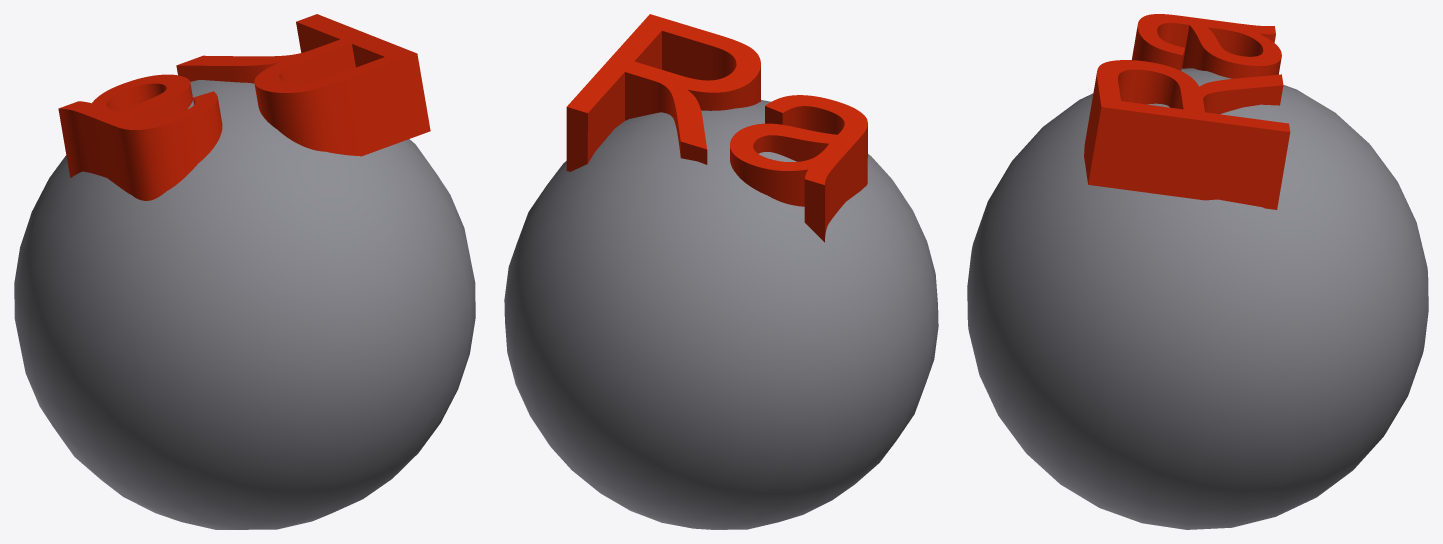
The picture shows the model from 3 angles, left to right: view 1: azimuth 30°, elevation 25°; view 2: azimuth 150°, elevation 25°; view 3: azimuth 270°, elevation 25°; orthographic projection. The views are drawn at different scales.
Parts seen in each view (by area): view 1: Ra; view 2: Ra; view 3: Ra.
Part boxes in pixels (bbox=[...]): Ra: bbox=[14, 14, 475, 529]; Ra: bbox=[504, 14, 938, 529]; Ra: bbox=[967, 14, 1428, 529].
Size of the model in its own units: 38.63 by 42.57 by 38.6.
